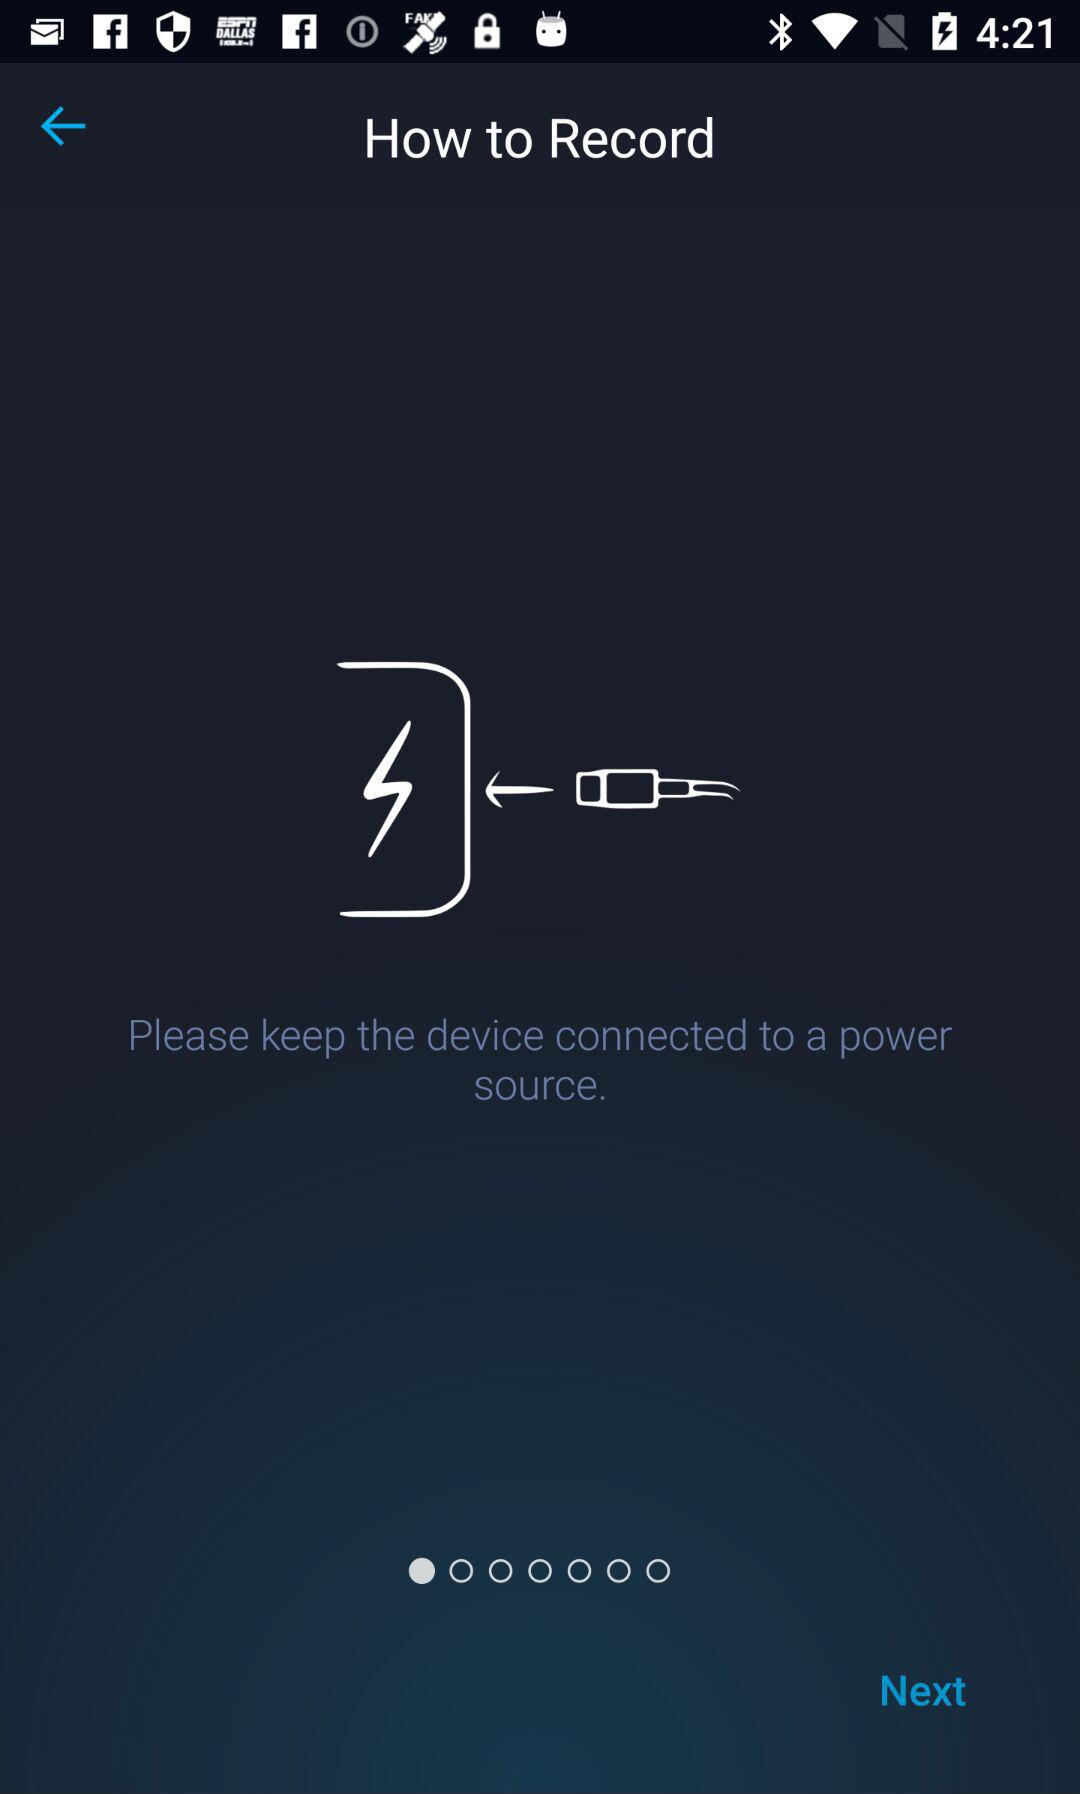Icon: (40, 106, 88, 147)
Image: (336, 662, 740, 919)
PageIndicator: (407, 1556, 671, 1585)
Text: (131, 1017, 953, 1102), (366, 117, 714, 160), (881, 1674, 967, 1708)
UpperTaskBar: (1, 1, 1080, 64)
